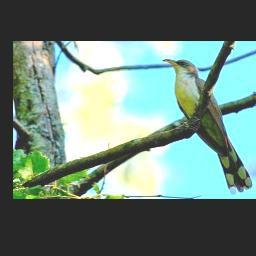Cuckoo: (163, 58, 253, 193)
